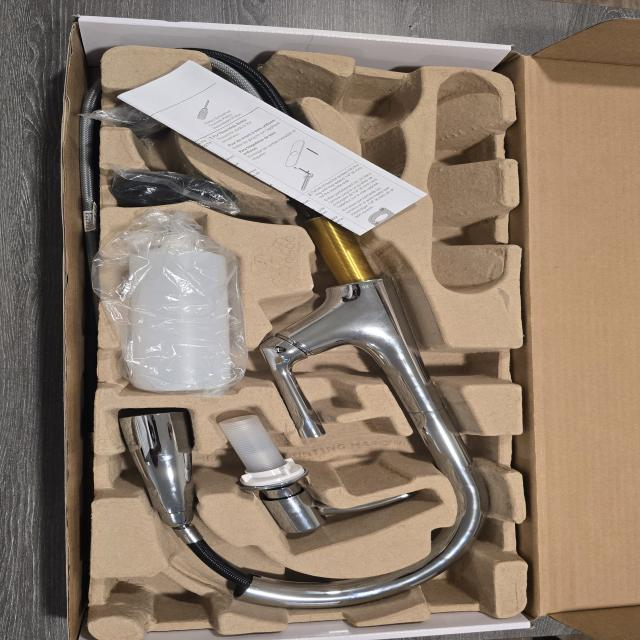1o: (120, 56, 490, 608)
2: (217, 413, 412, 534)
3: (128, 211, 234, 394)
4m: (427, 72, 503, 293)
5m: (334, 81, 409, 139)
6o: (85, 70, 242, 142)
7: (102, 164, 245, 216)
8: (114, 59, 431, 239)
